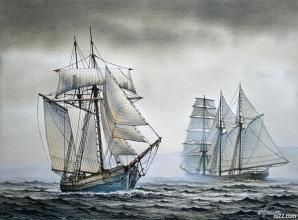fanchuan: (39, 32, 159, 194), (180, 84, 281, 181)
